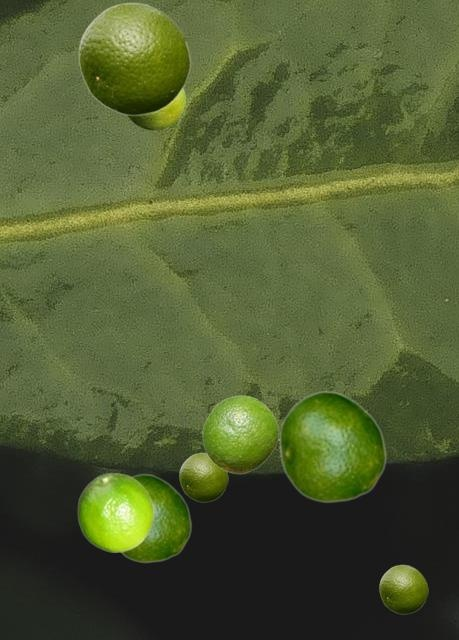calamansi: (78, 1, 190, 115), (278, 390, 386, 502), (120, 473, 191, 562), (77, 472, 153, 551), (202, 395, 278, 473), (379, 564, 427, 613), (179, 452, 227, 501), (127, 89, 184, 129)
